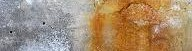Corrosion: (87, 1, 192, 51)
